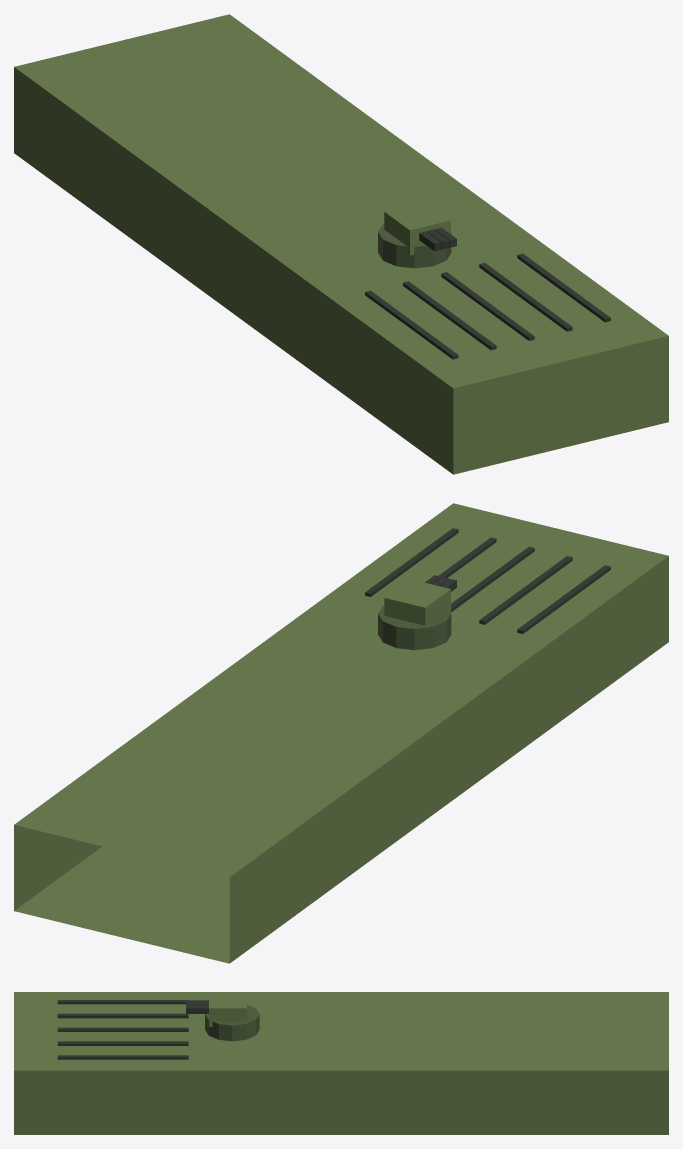
Rendered from medium_bow.obj.
3 views of the same model, one above another, from view 1: azimuth 30°, elevation 25°; view 2: azimuth 150°, elevation 25°; view 3: azimuth 270°, elevation 25° (orthographic). The views are drawn at different scales.
Bounding box in the file's own units: 1.7 × 0.96 × 6.
3 materials, 3 textured.
